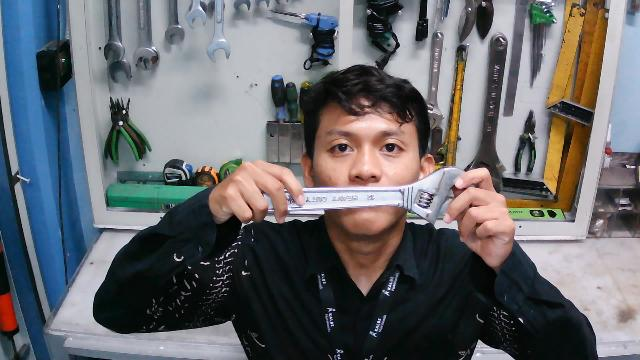kunci_inggris: (229, 161, 472, 244)
